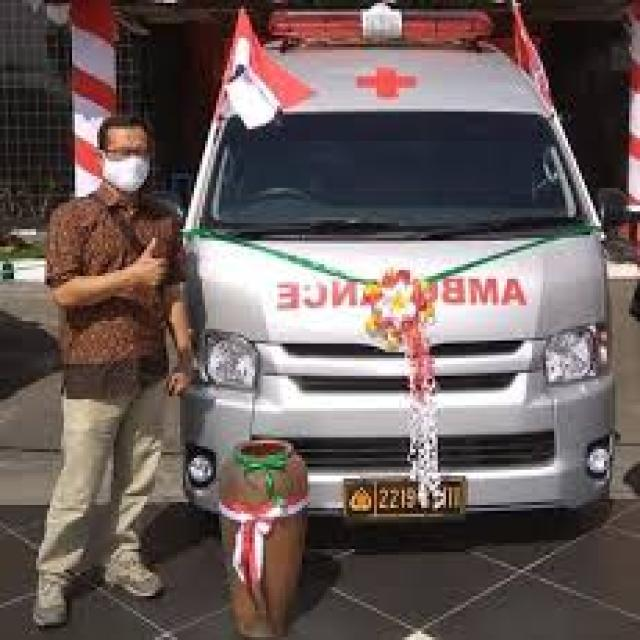emergency-vehicle: (180, 0, 612, 505)
